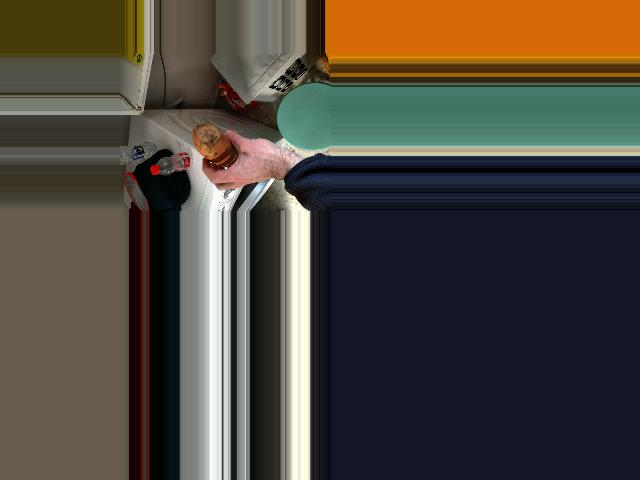sweet_potato: (194, 126, 241, 167)
